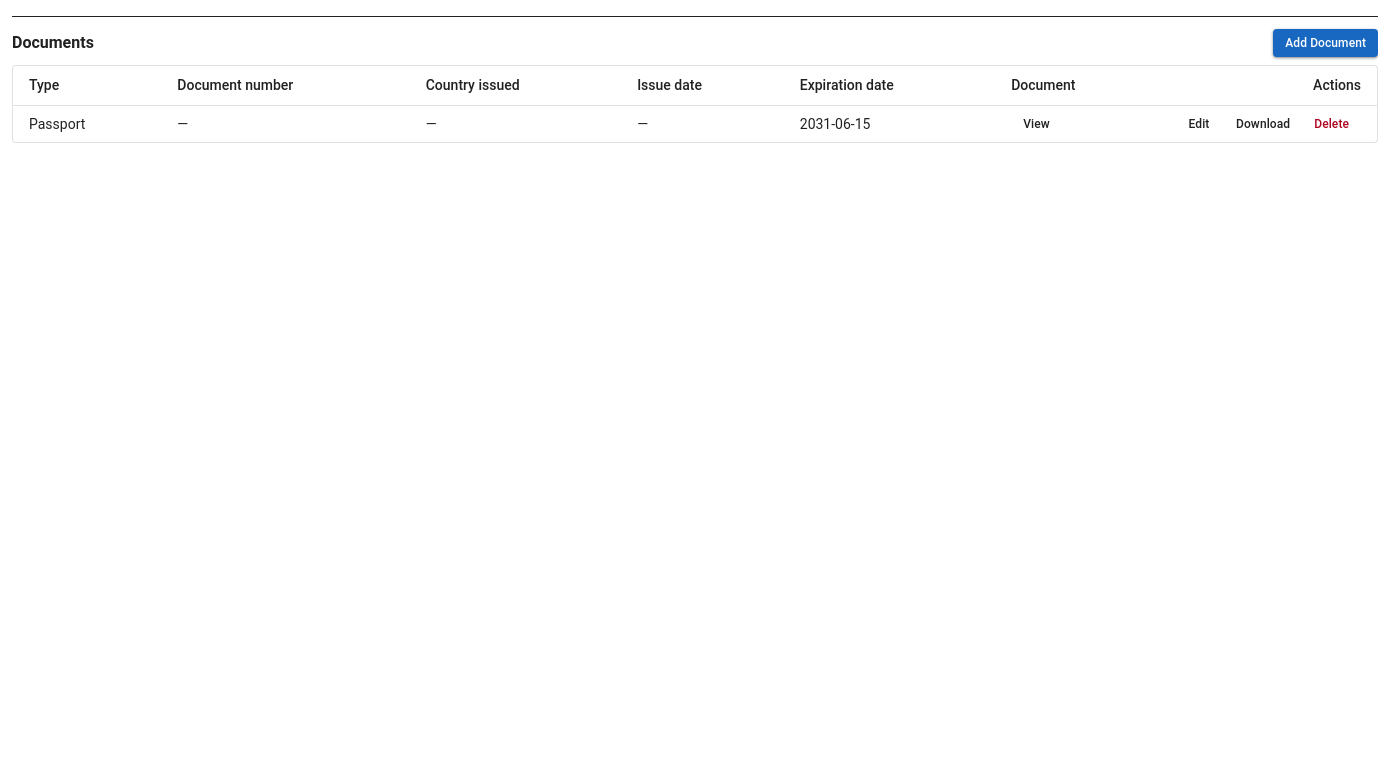
Test: Feature 97 — Document File Thumbnail in the Edit Document Dialog › US-97.1 — See the uploaded file while editing a document › Editing a document with a PDF shows its first page
What coordinates should you click on to do the following:
click the button "Edit"
I would click on:
 (1199, 124)
Its box is [1174,110,1224,138].
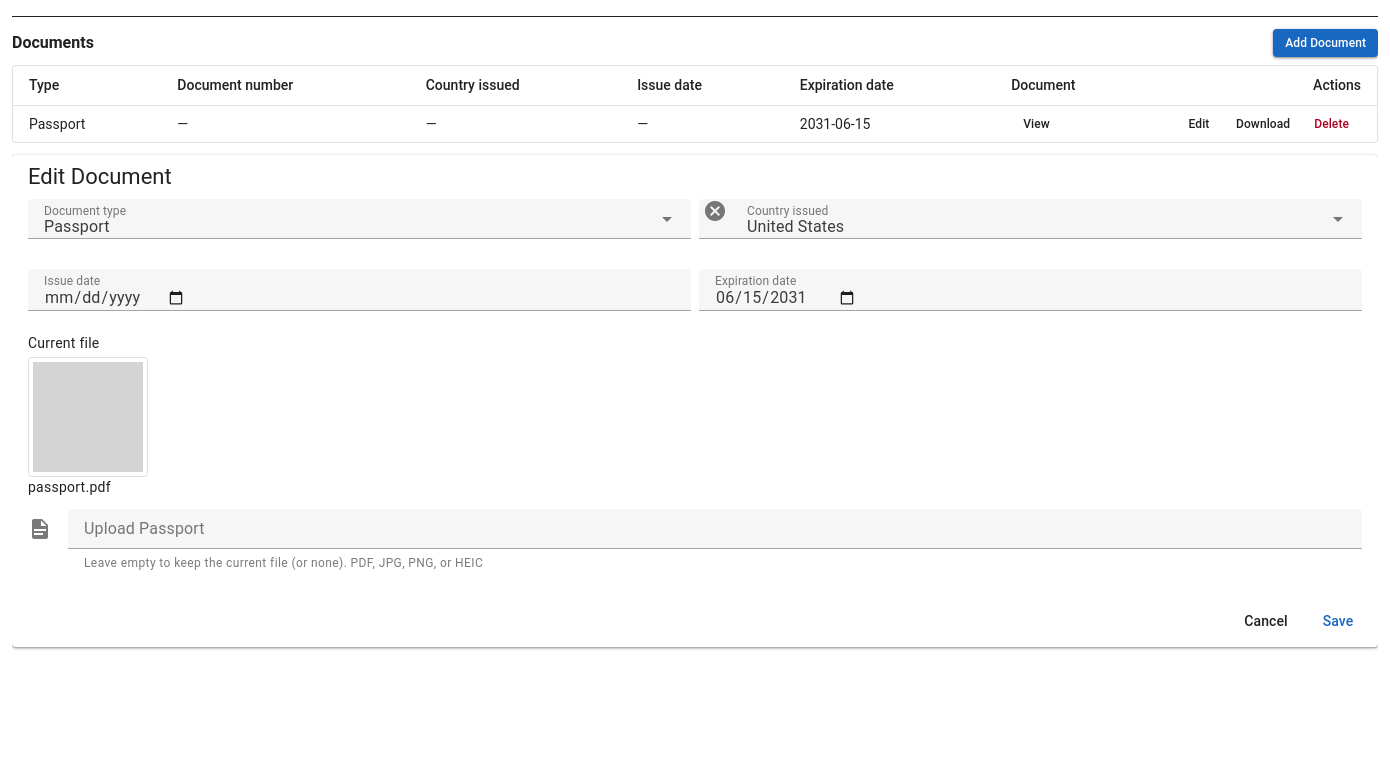
Expected: the element with test id "current-file" shows "passport.pdf", [28,479,111,495]
